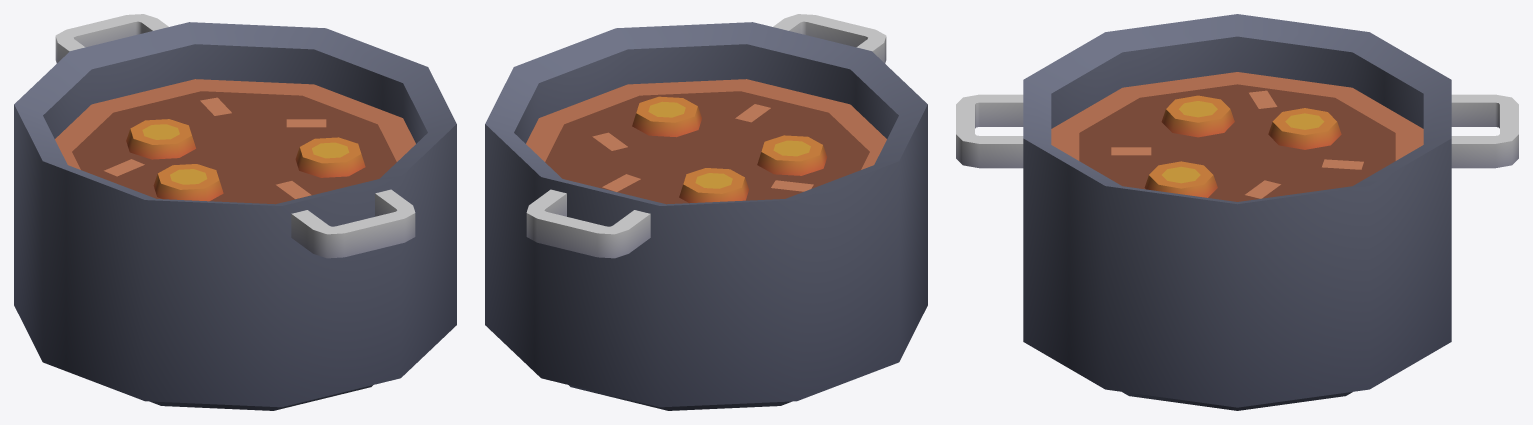
Rendered from KF_pot-stew.glb.
3 views of the same model, side by side, from view 1: azimuth 30°, elevation 25°; view 2: azimuth 150°, elevation 25°; view 3: azimuth 270°, elevation 25° (orthographic).
Visible parts, largest first — view 1: pot-stew; view 2: pot-stew; view 3: pot-stew.
Boxes of the visible parts, <box> form: pot-stew: <box>14,14,456,410</box>; pot-stew: <box>485,14,927,410</box>; pot-stew: <box>956,14,1518,410</box>.
Bounding box in the file's own units: 0.6575 × 0.3608 × 0.8221.
